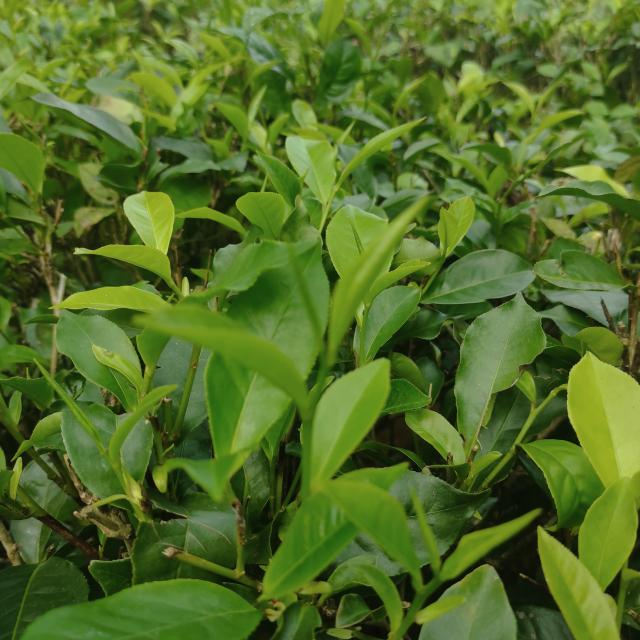unopened_leaf: (323, 193, 438, 362), (23, 353, 118, 472), (276, 220, 332, 364), (404, 476, 449, 586), (342, 208, 367, 256)
